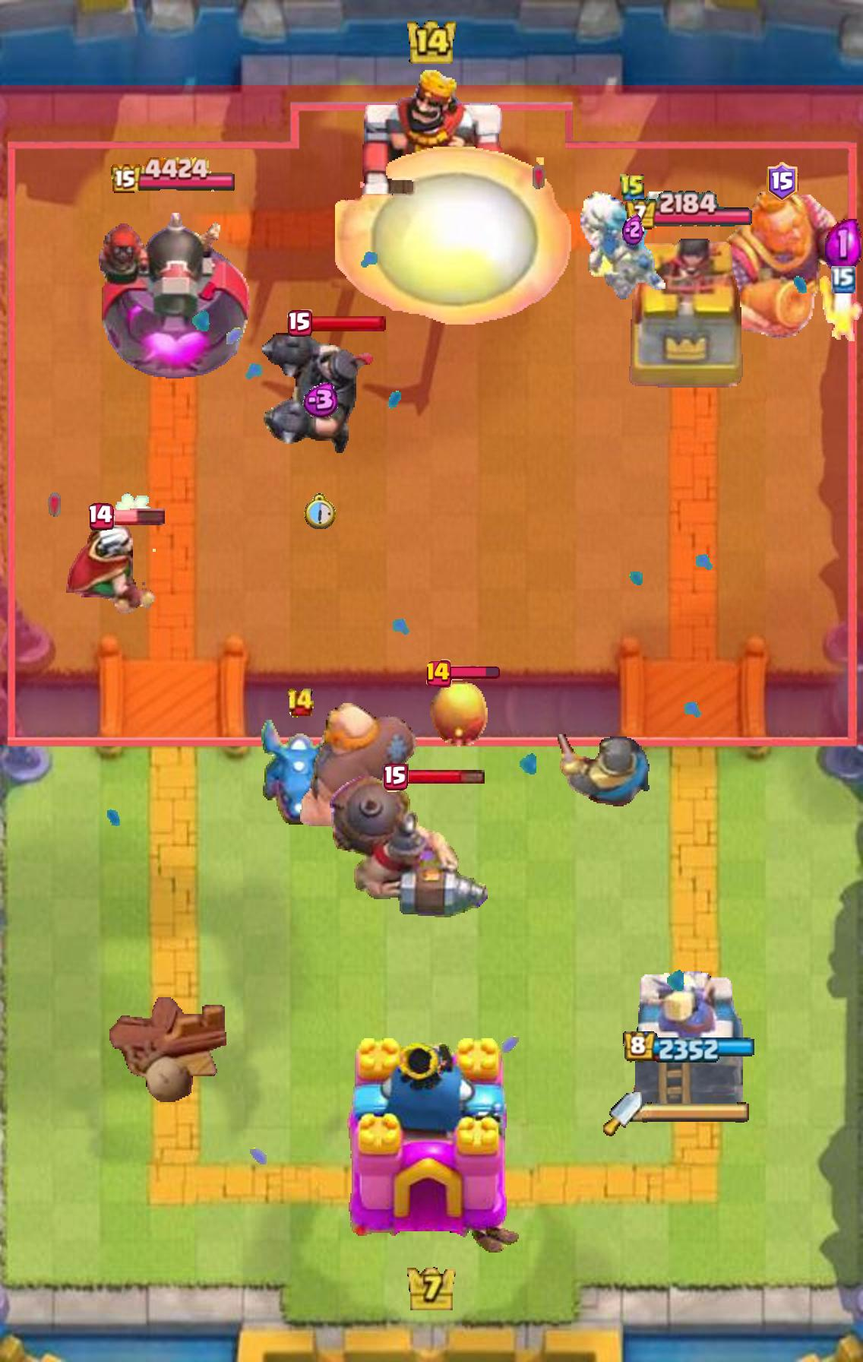bar: (308, 314, 387, 332), (405, 769, 485, 786), (111, 508, 166, 526), (448, 666, 500, 681)
bar-level: (766, 162, 799, 201), (286, 688, 315, 718), (89, 502, 115, 531), (426, 659, 452, 688), (382, 763, 408, 792), (287, 309, 312, 337)
